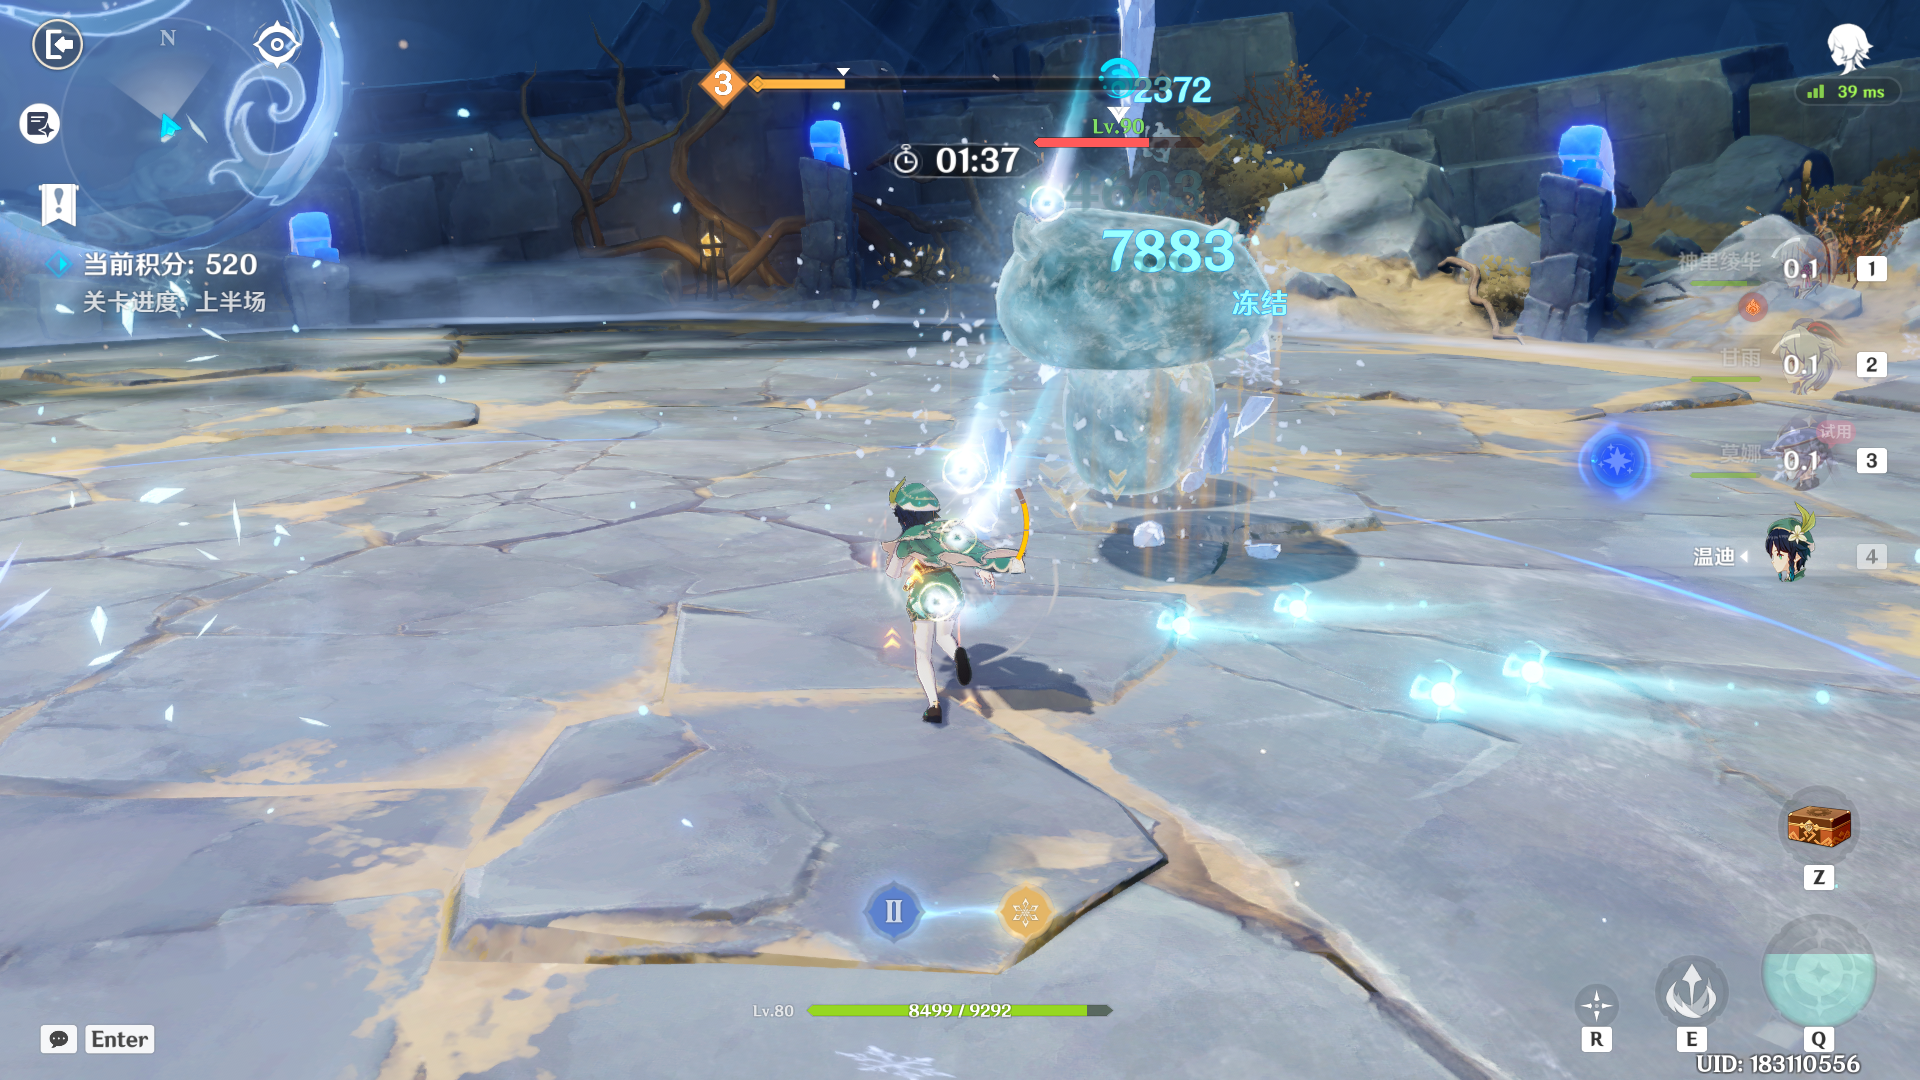character: (851, 475, 1030, 744)
